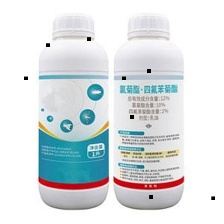insecticide: (109, 7, 186, 213), (34, 11, 111, 213)
